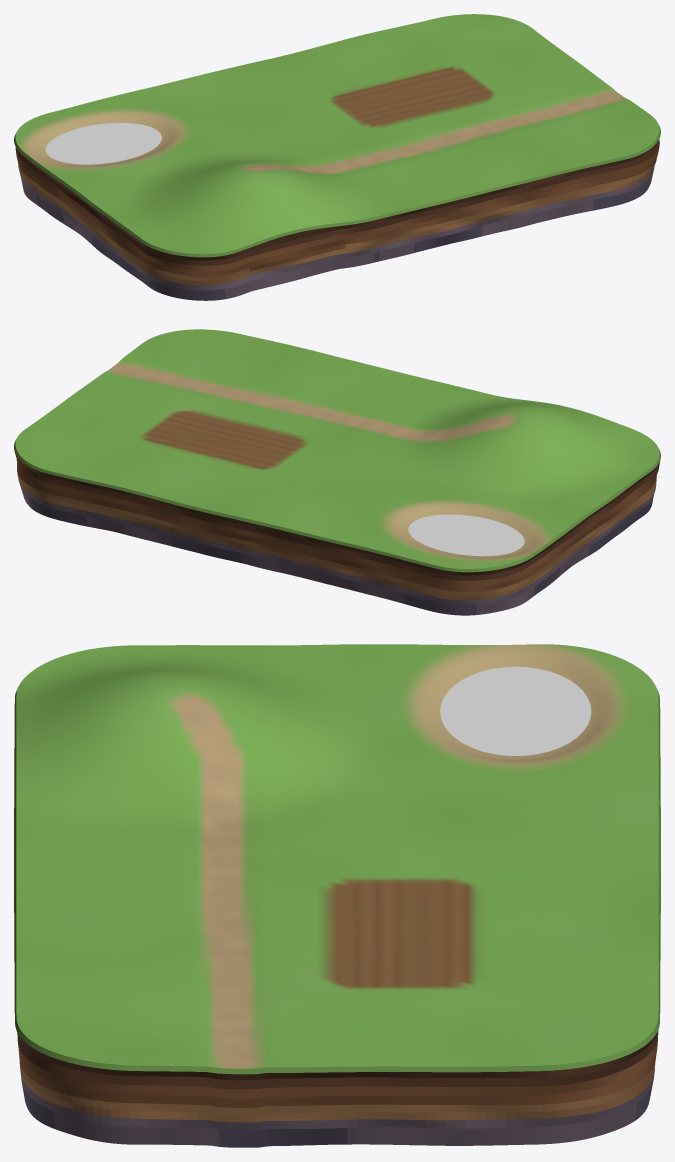
The model's file is terrain_level07.fbx.
3 views of the same model, one above another, from view 1: azimuth 30°, elevation 25°; view 2: azimuth 150°, elevation 25°; view 3: azimuth 270°, elevation 25° (orthographic). The views are drawn at different scales.
Visible parts, largest first — view 1: Ground, Water_pond; view 2: Ground, Water_pond; view 3: Ground, Water_pond.
Boxes of the visible parts, left/top/right/bottom form: Ground: left=14, top=14, right=660, bottom=300; Water_pond: left=45, top=123, right=161, bottom=164; Ground: left=14, top=329, right=660, bottom=615; Water_pond: left=408, top=514, right=524, bottom=556; Ground: left=14, top=644, right=660, bottom=1147; Water_pond: left=440, top=666, right=591, bottom=755.
Bounding box in the file's own units: 14.07 × 2.14 × 9.07.
